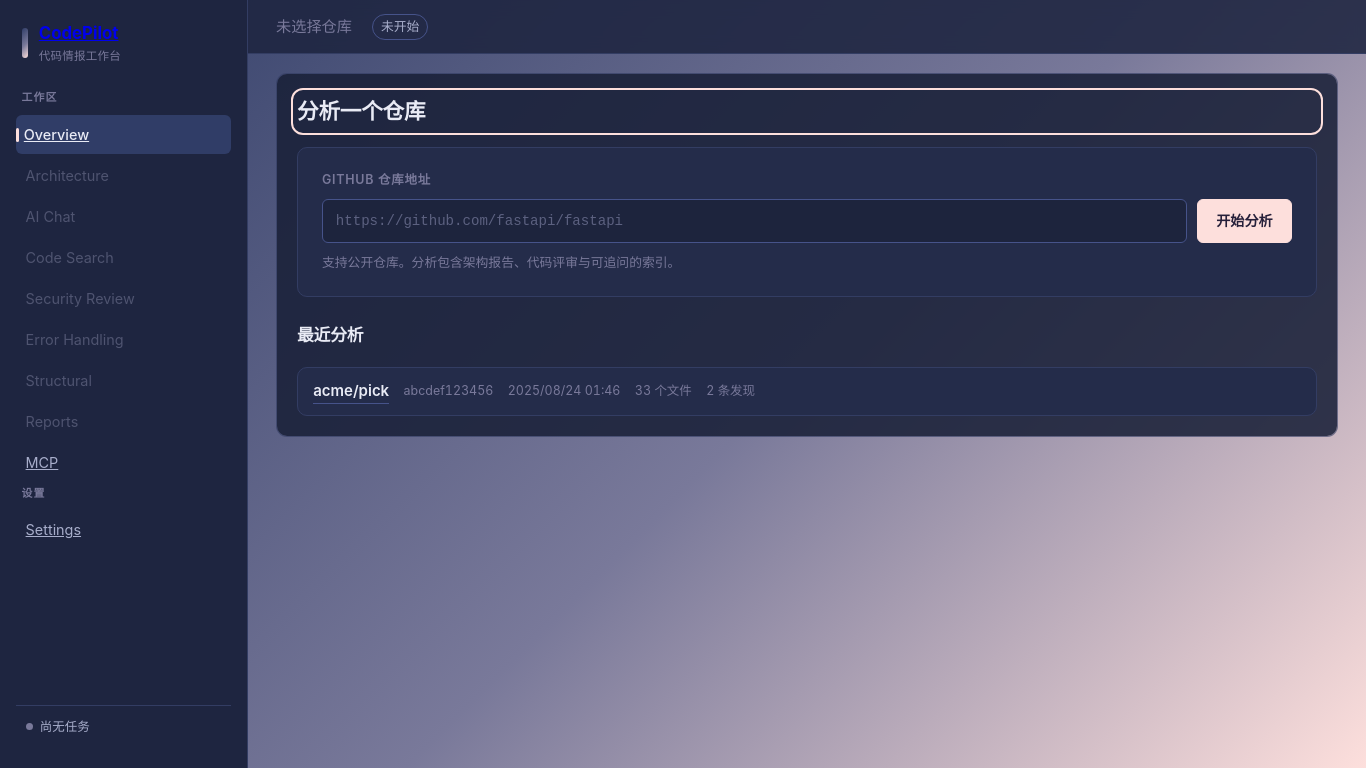
最近分析列表（AE-11） › 点击列表项进入该次分析的 Overview 页
Click the link "acme/pick": [351, 391] box [313, 379, 389, 404]
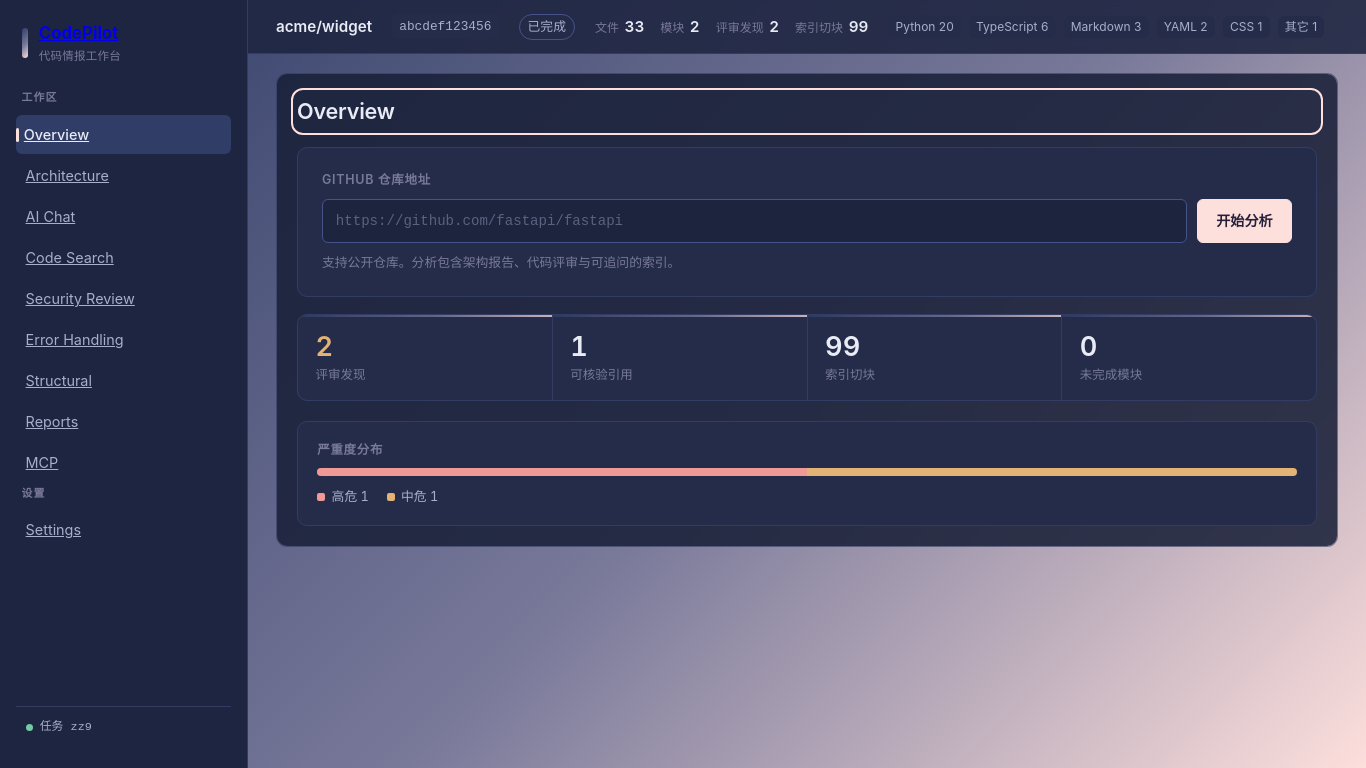
Check: the heading "Overview" is shown, box [297, 98, 395, 124]
